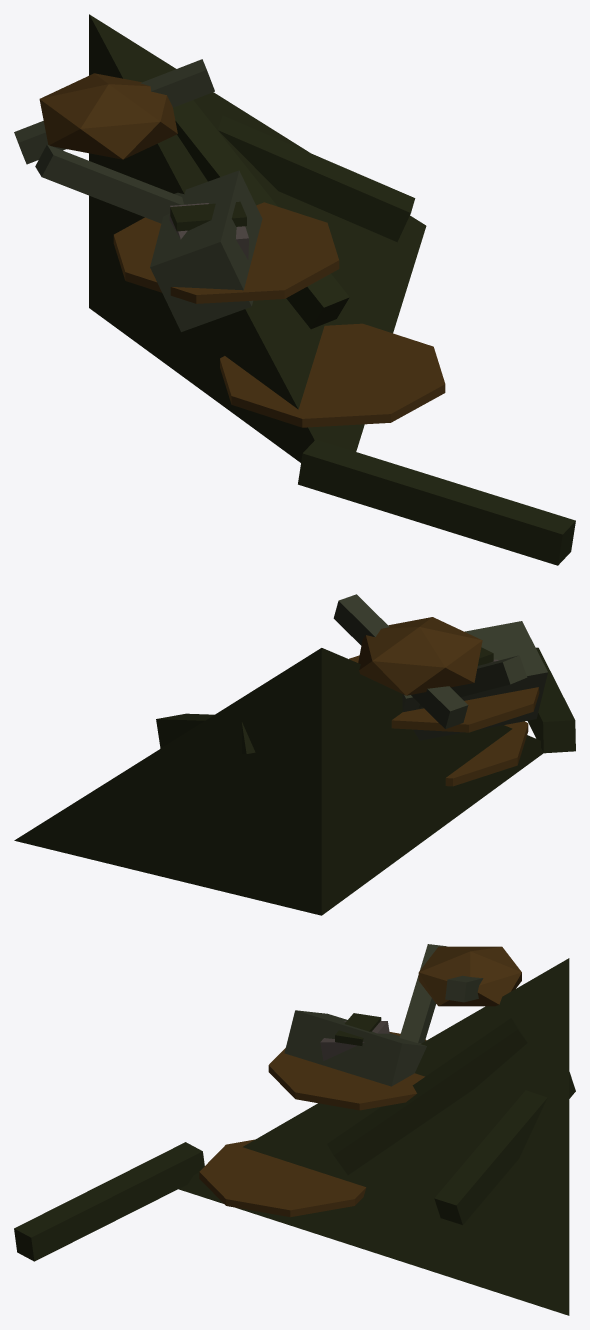
The model's file is SM_PilaZombi_RemateDer_Altura1_s1_LOD0.fbx.
The picture shows the model from 3 angles, top to bottom: view 1: azimuth 30°, elevation 25°; view 2: azimuth 150°, elevation 25°; view 3: azimuth 270°, elevation 25°; orthographic projection. The views are drawn at different scales.
Parts seen in each view (by area): view 1: SM_pila_zombis_v5_LOD0; view 2: SM_pila_zombis_v5_LOD0; view 3: SM_pila_zombis_v5_LOD0.
Part boxes in pixels (x1,y1,x2,y2): SM_pila_zombis_v5_LOD0: [14, 14, 575, 565]; SM_pila_zombis_v5_LOD0: [14, 594, 575, 915]; SM_pila_zombis_v5_LOD0: [14, 944, 575, 1315].
Bounding box in the file's own units: 1.69 × 1.09 × 2.22.
